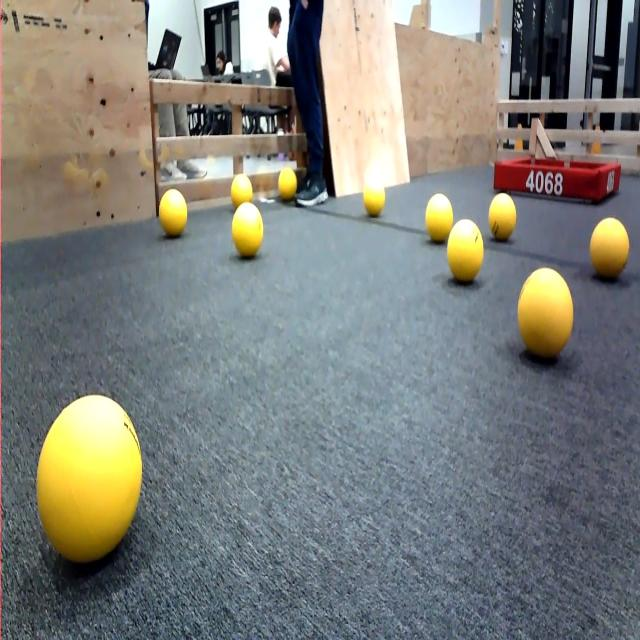Bumper: (489, 141, 624, 210)
fuel: (30, 391, 148, 564), (515, 260, 582, 366), (586, 206, 635, 292), (444, 211, 488, 282), (229, 200, 268, 271), (156, 177, 194, 246), (357, 167, 392, 230), (486, 185, 524, 242), (421, 187, 456, 247), (274, 159, 305, 214), (227, 168, 260, 210)
